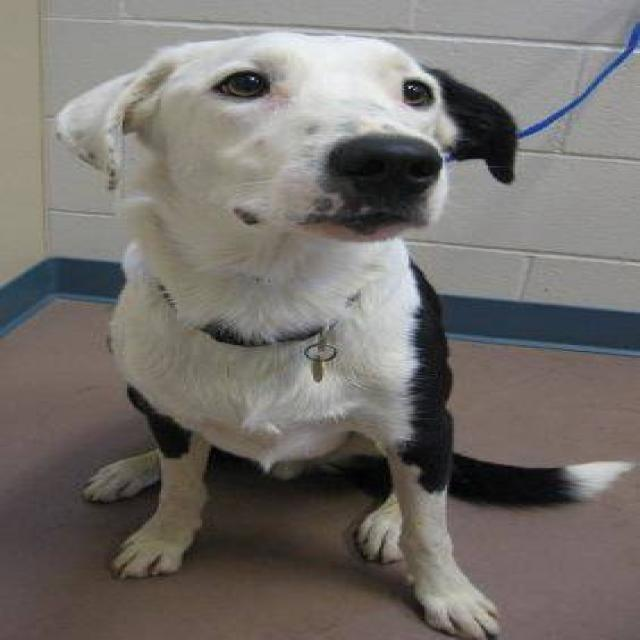dog: (52, 30, 633, 639)
